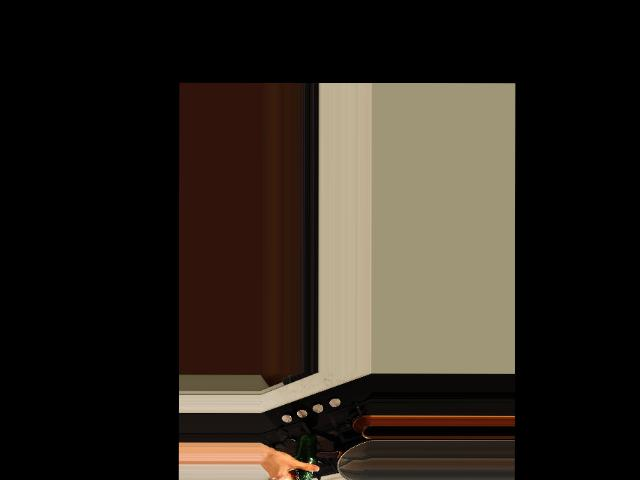beer: (296, 433, 317, 480)
